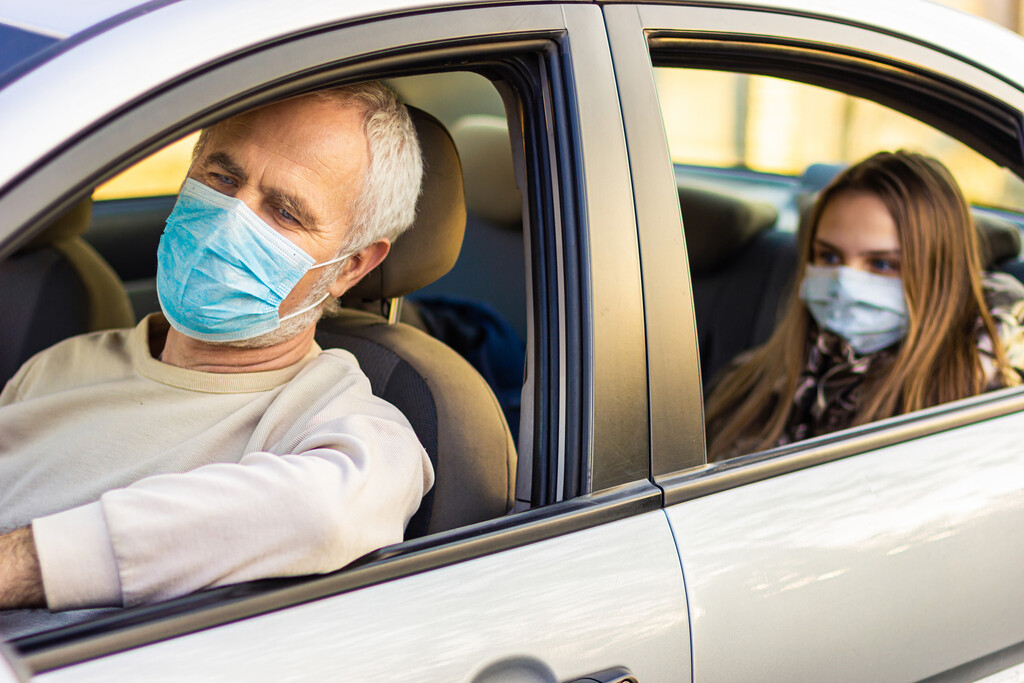with_mask: (172, 121, 344, 328), (810, 207, 903, 337)
